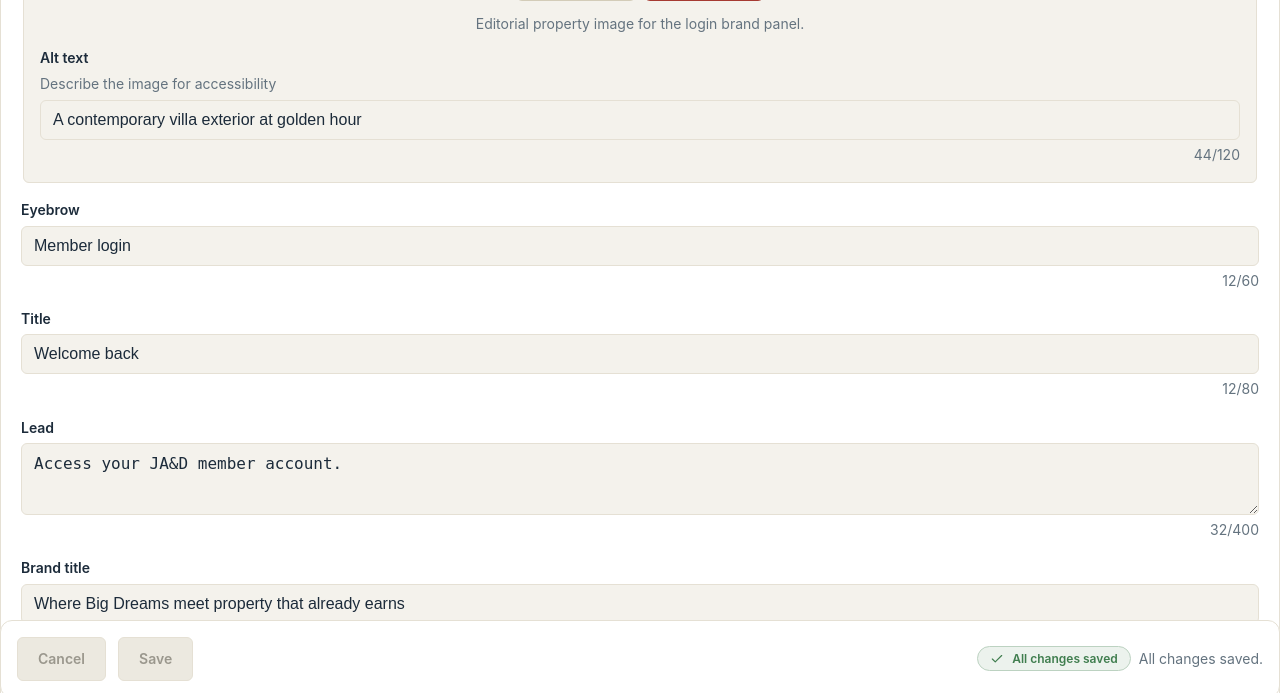
Test: CmsLoginPage — Login CMS module › validation: empty required title shows error and disables Save
The image size is (1280, 693).
(page scrolled)
Clear the field showing "Welcome back" at (640, 354), box [21,334,1259,374]
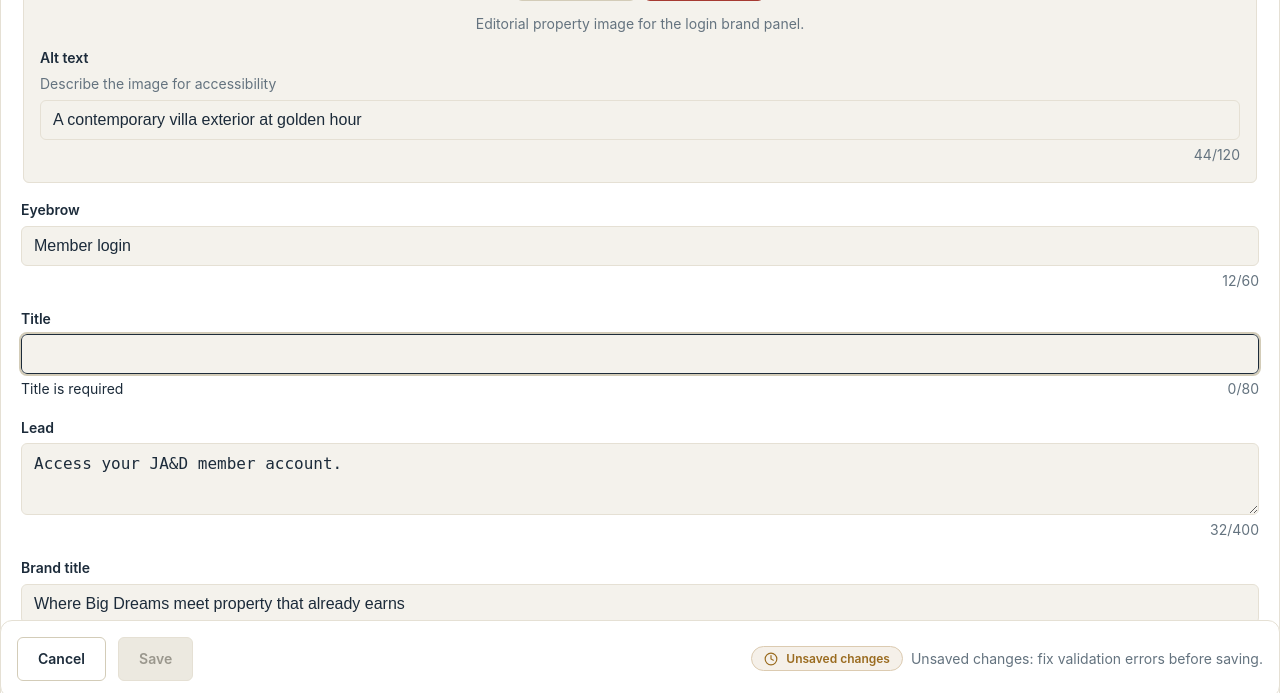
Check: the button "Save" is disabled, box [118,637,193,681]
Check: the text "Title is required" is shown, box [21,378,123,401]
